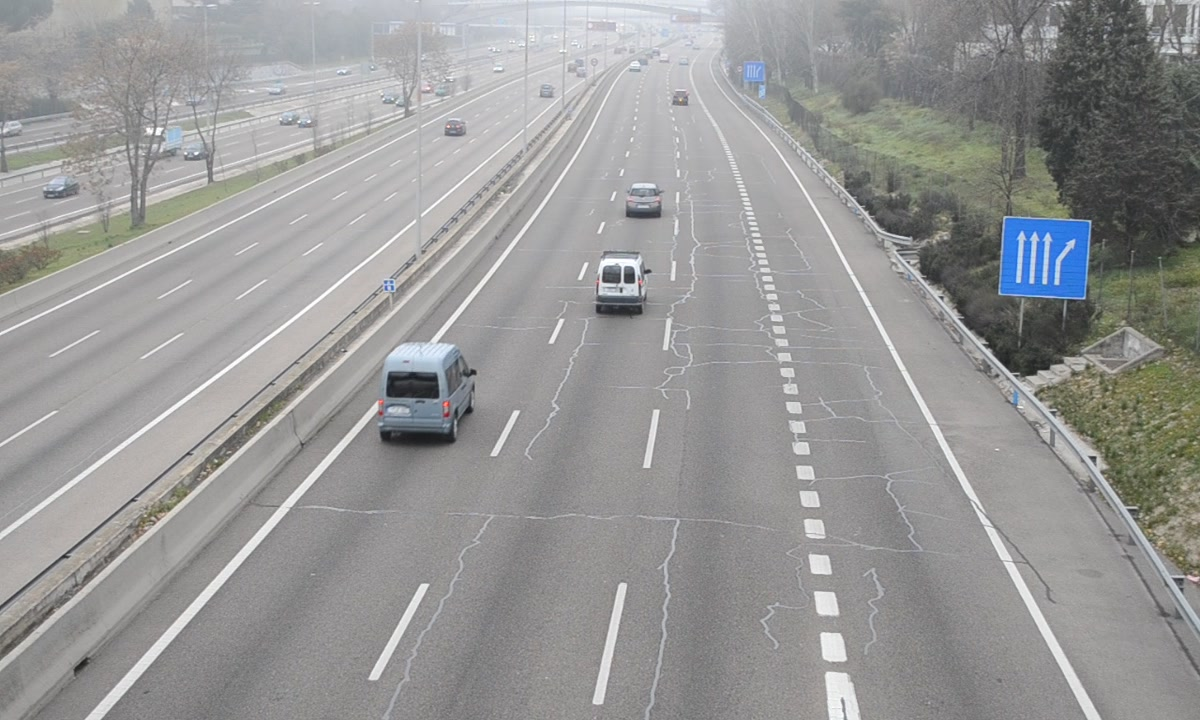car: (625, 183, 662, 217)
van: (379, 343, 474, 436), (595, 255, 648, 312)
